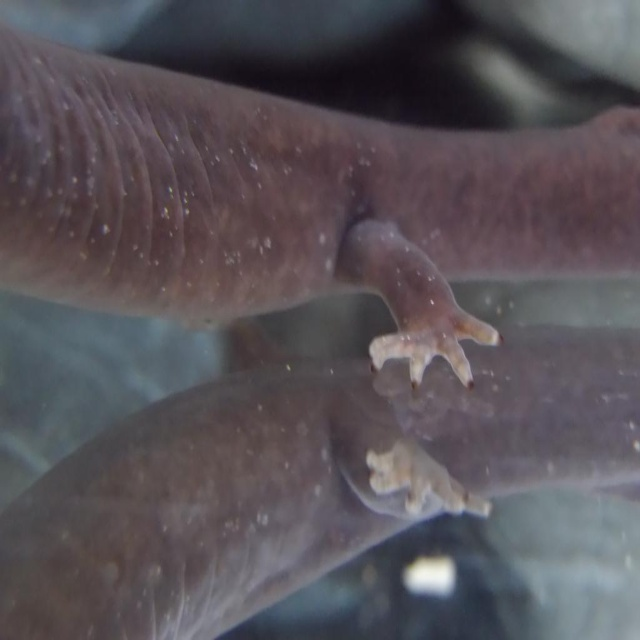Lizard: (0, 23, 640, 393)
